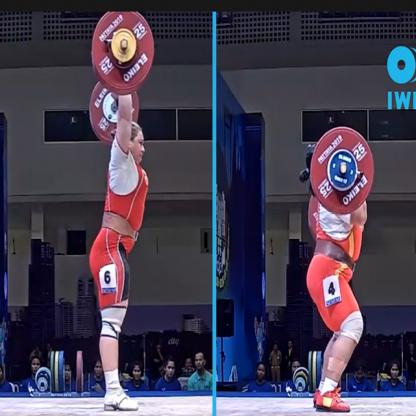Barbell: (305, 116, 383, 223), (90, 8, 158, 100)
